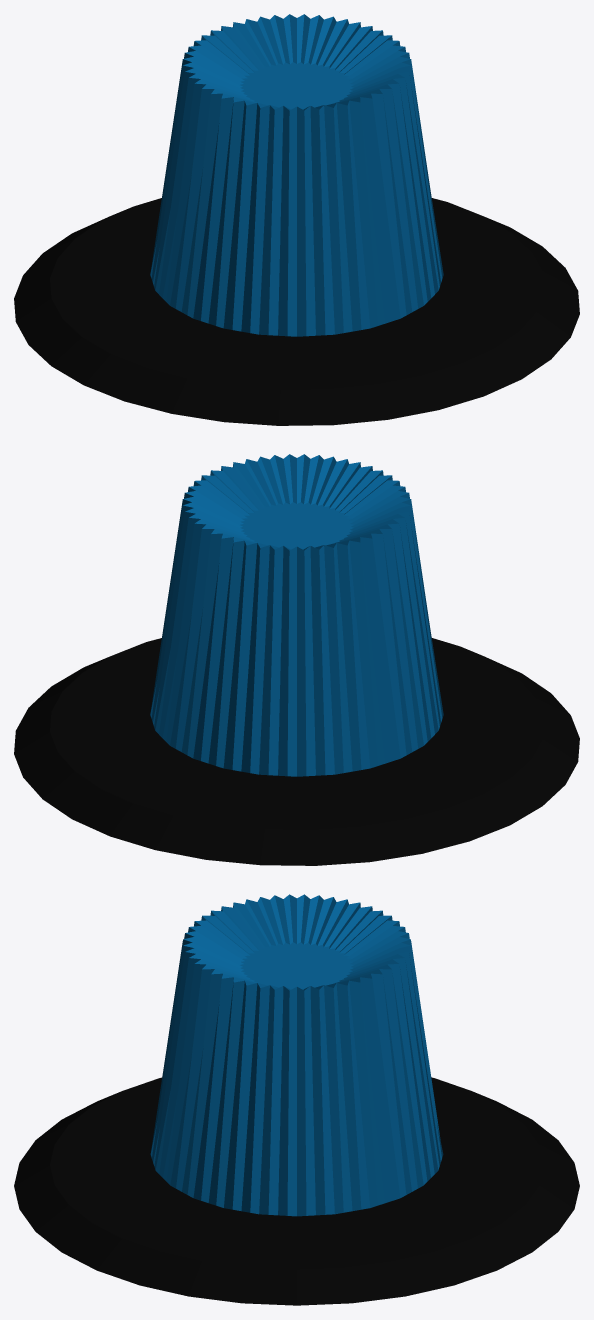
File: props.fbx_reg2.fbx
The picture shows the model from 3 angles, top to bottom: view 1: azimuth 30°, elevation 25°; view 2: azimuth 150°, elevation 25°; view 3: azimuth 270°, elevation 25°; orthographic projection.
Parts seen in each view (by area): view 1: Cylinder.011, Circle.027; view 2: Cylinder.011, Circle.027; view 3: Cylinder.011, Circle.027.
Part boxes in pixels (x1=…): Cylinder.011: x1=150, y1=14, x2=443, y2=336; Circle.027: x1=14, y1=198, x2=579, y2=425; Cylinder.011: x1=150, y1=454, x2=443, y2=776; Circle.027: x1=14, y1=638, x2=579, y2=865; Cylinder.011: x1=150, y1=894, x2=443, y2=1216; Circle.027: x1=14, y1=1077, x2=579, y2=1305.
Bounding box in the file's own units: 0.6411 × 0.3044 × 0.6411.
